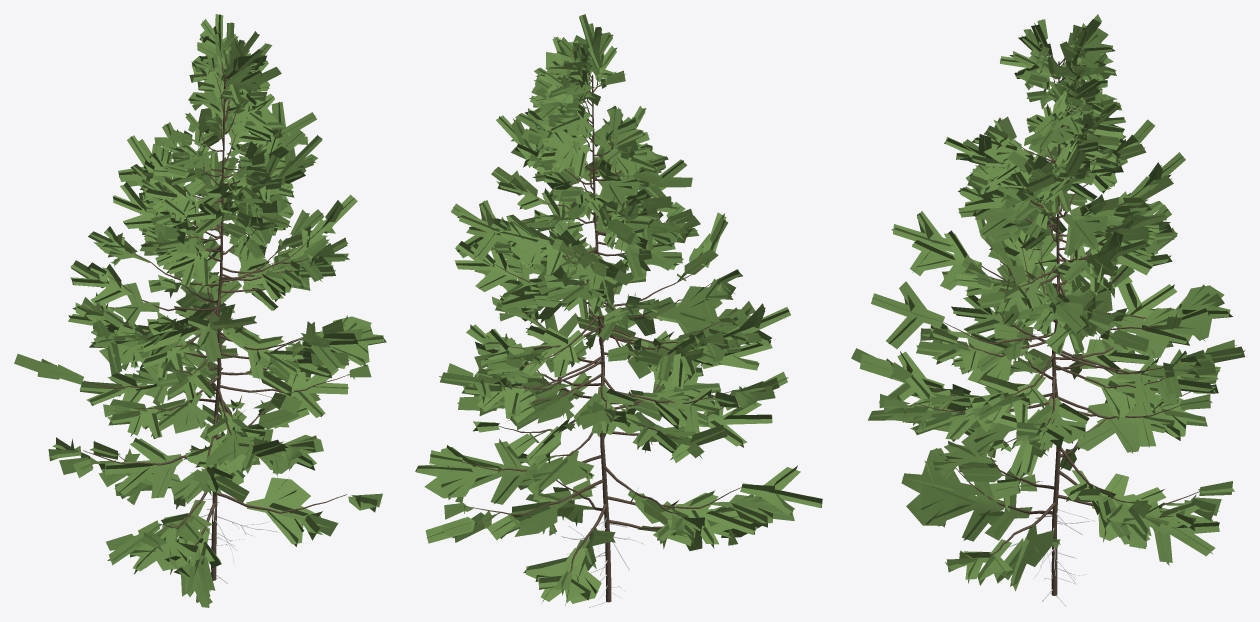
File: FirTree.fbx
The picture shows the model from 3 angles, left to right: view 1: azimuth 30°, elevation 25°; view 2: azimuth 150°, elevation 25°; view 3: azimuth 270°, elevation 25°; orthographic projection. The views are drawn at different scales.
Visible parts, largest first — view 1: FirTree; view 2: FirTree; view 3: FirTree.
Part boxes in pixels (x1,y1,x2,y2): FirTree: (14,14,386,607); FirTree: (415,14,822,607); FirTree: (851,14,1245,607).
Size of the model in its own units: 506 by 886 by 532.
